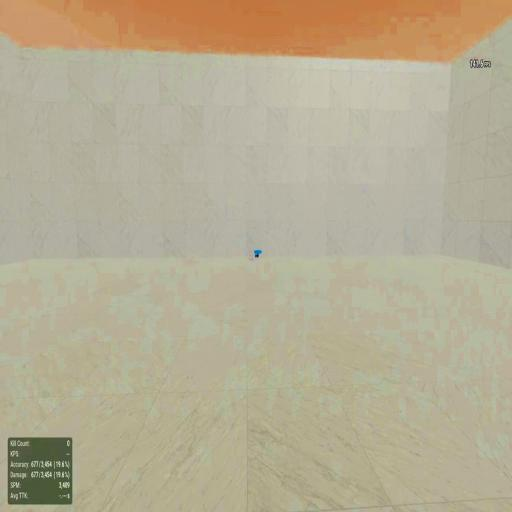Crosshair: (255, 254, 257, 258)
Target: (256, 253, 259, 258)
